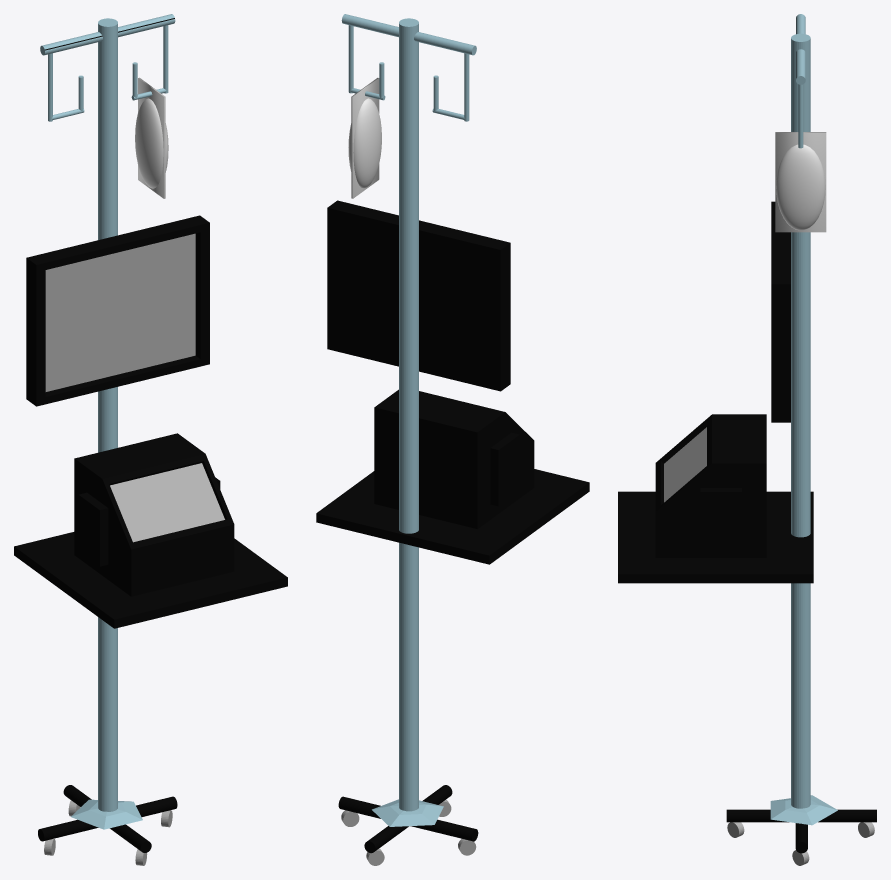
Rendered from Infirmary Equipment 2 (Stand).fbx.
3 views of the same model, side by side, from view 1: azimuth 30°, elevation 25°; view 2: azimuth 150°, elevation 25°; view 3: azimuth 270°, elevation 25° (orthographic). The views are drawn at different scales.
Visible parts, largest first — view 1: Cylinder.000; view 2: Cylinder.000; view 3: Cylinder.000.
Boxes of the visible parts, box(x1,y1,x2,y2) form: Cylinder.000: box(14, 14, 287, 865); Cylinder.000: box(316, 14, 589, 865); Cylinder.000: box(618, 14, 876, 865).
Bounding box in the file's own units: 201 × 901 × 265.
